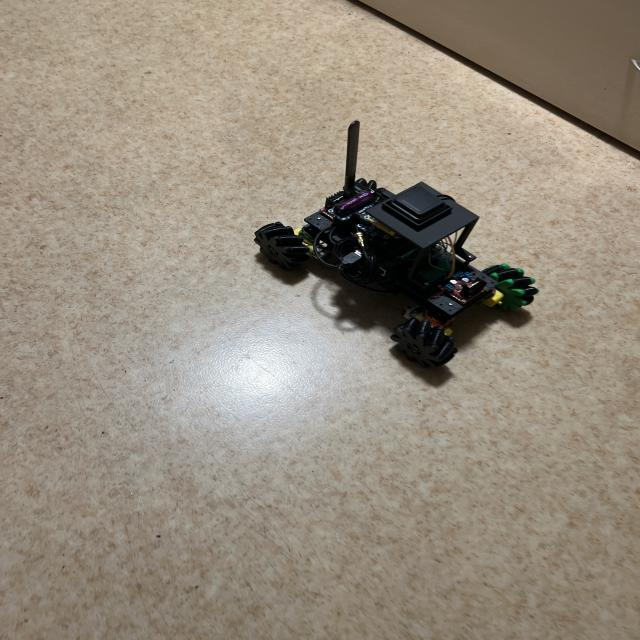robot: (254, 121, 538, 367)
